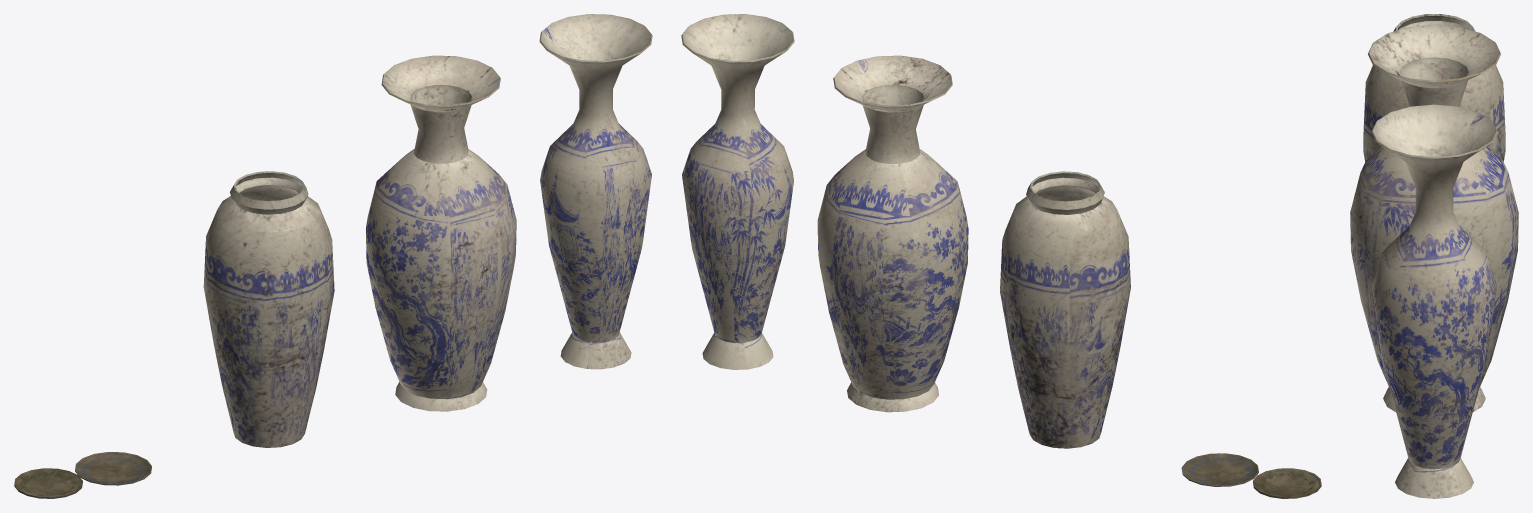
The model's file is Vas Bunga.fbx.
3 renders of one model, left to right at view 1: azimuth 30°, elevation 25°; view 2: azimuth 150°, elevation 25°; view 3: azimuth 270°, elevation 25°, orthographic. The views are drawn at different scales.
Visible parts, largest first — view 1: Vas 2, Vas 3, Vas 1, Plate 2, Plate 1; view 2: Vas 2, Vas 3, Vas 1, Plate 2, Plate 1; view 3: Vas 1, Vas 2, Vas 3.
Boxes of the visible parts, left/top/right/bottom form: Vas 2: left=366, top=55, right=516, bottom=411; Vas 3: left=203, top=171, right=334, bottom=447; Vas 1: left=539, top=14, right=652, bottom=369; Plate 2: left=75, top=452, right=151, bottom=485; Plate 1: left=14, top=468, right=82, bottom=498; Vas 2: left=817, top=55, right=968, bottom=412; Vas 3: left=1000, top=171, right=1130, bottom=448; Vas 1: left=681, top=14, right=794, bottom=369; Plate 2: left=1181, top=453, right=1258, bottom=486; Plate 1: left=1253, top=468, right=1321, bottom=498; Vas 1: left=1371, top=104, right=1497, bottom=498; Vas 2: left=1350, top=25, right=1518, bottom=412; Vas 3: left=1363, top=14, right=1505, bottom=161.
Size of the model in its own units: 243 by 50.96 by 119.
